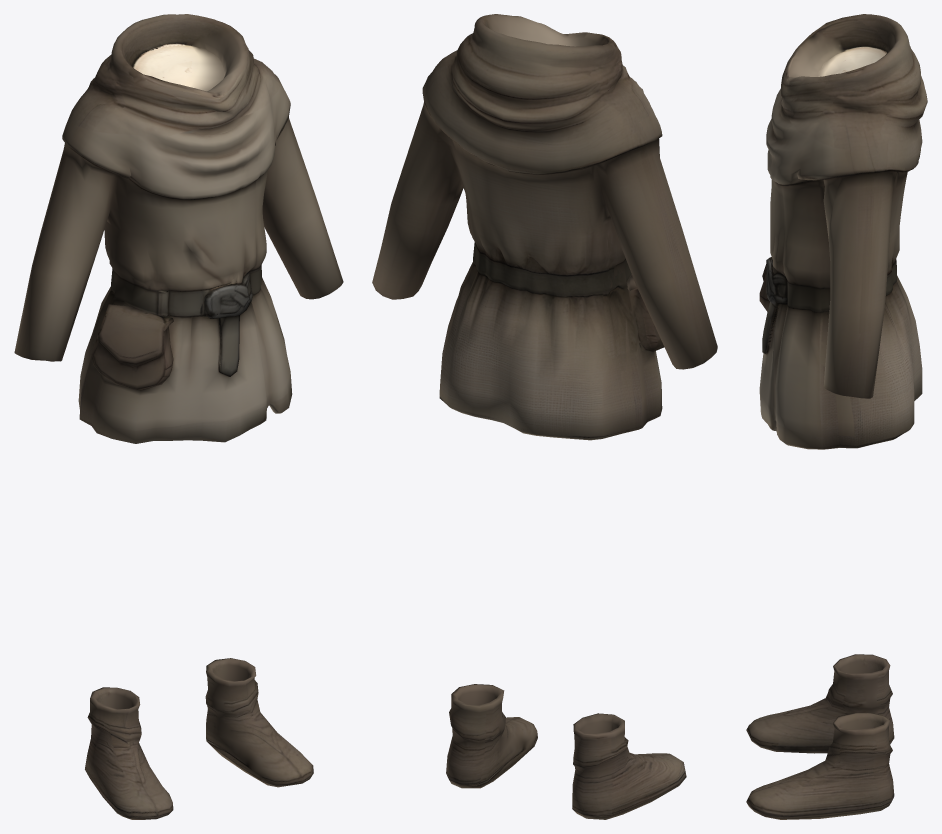
The model's file is Villager.fbx.
The picture shows the model from 3 angles, left to right: view 1: azimuth 30°, elevation 25°; view 2: azimuth 150°, elevation 25°; view 3: azimuth 270°, elevation 25°; orthographic projection. The views are drawn at different scales.
Parts seen in each view (by area): view 1: part_0, part_2, part_1; view 2: part_0, part_1, part_2; view 3: part_0, part_2, part_1.
Part boxes in pixels (x1,y1,x2,y2): part_0: (14, 14, 343, 443); part_2: (205, 658, 313, 787); part_1: (85, 687, 173, 819); part_0: (372, 14, 717, 440); part_1: (572, 713, 686, 819); part_2: (446, 684, 537, 788); part_0: (759, 14, 927, 449); part_2: (746, 713, 894, 819); part_1: (746, 654, 894, 753).
Bounding box in the file's own units: 43.84 × 96.45 × 21.29.
1 material, 1 textured.
